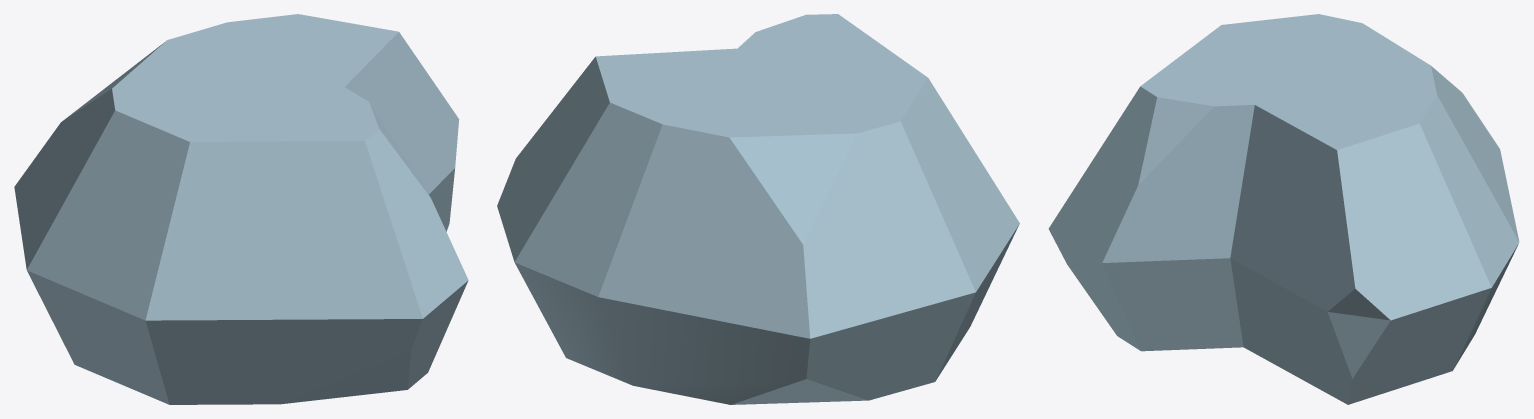
Rendered from rocher-glace-3.glb.
3 views of the same model, side by side, from view 1: azimuth 30°, elevation 25°; view 2: azimuth 150°, elevation 25°; view 3: azimuth 270°, elevation 25° (orthographic). The views are drawn at different scales.
Parts seen in each view (by area): view 1: stone_largeD; view 2: stone_largeD; view 3: stone_largeD.
Part boxes in pixels (bbox=[...]): stone_largeD: bbox=[14, 14, 468, 404]; stone_largeD: bbox=[497, 14, 1019, 404]; stone_largeD: bbox=[1048, 14, 1519, 404].
Bounding box in the file's own units: 3 × 1.6 × 2.89.
